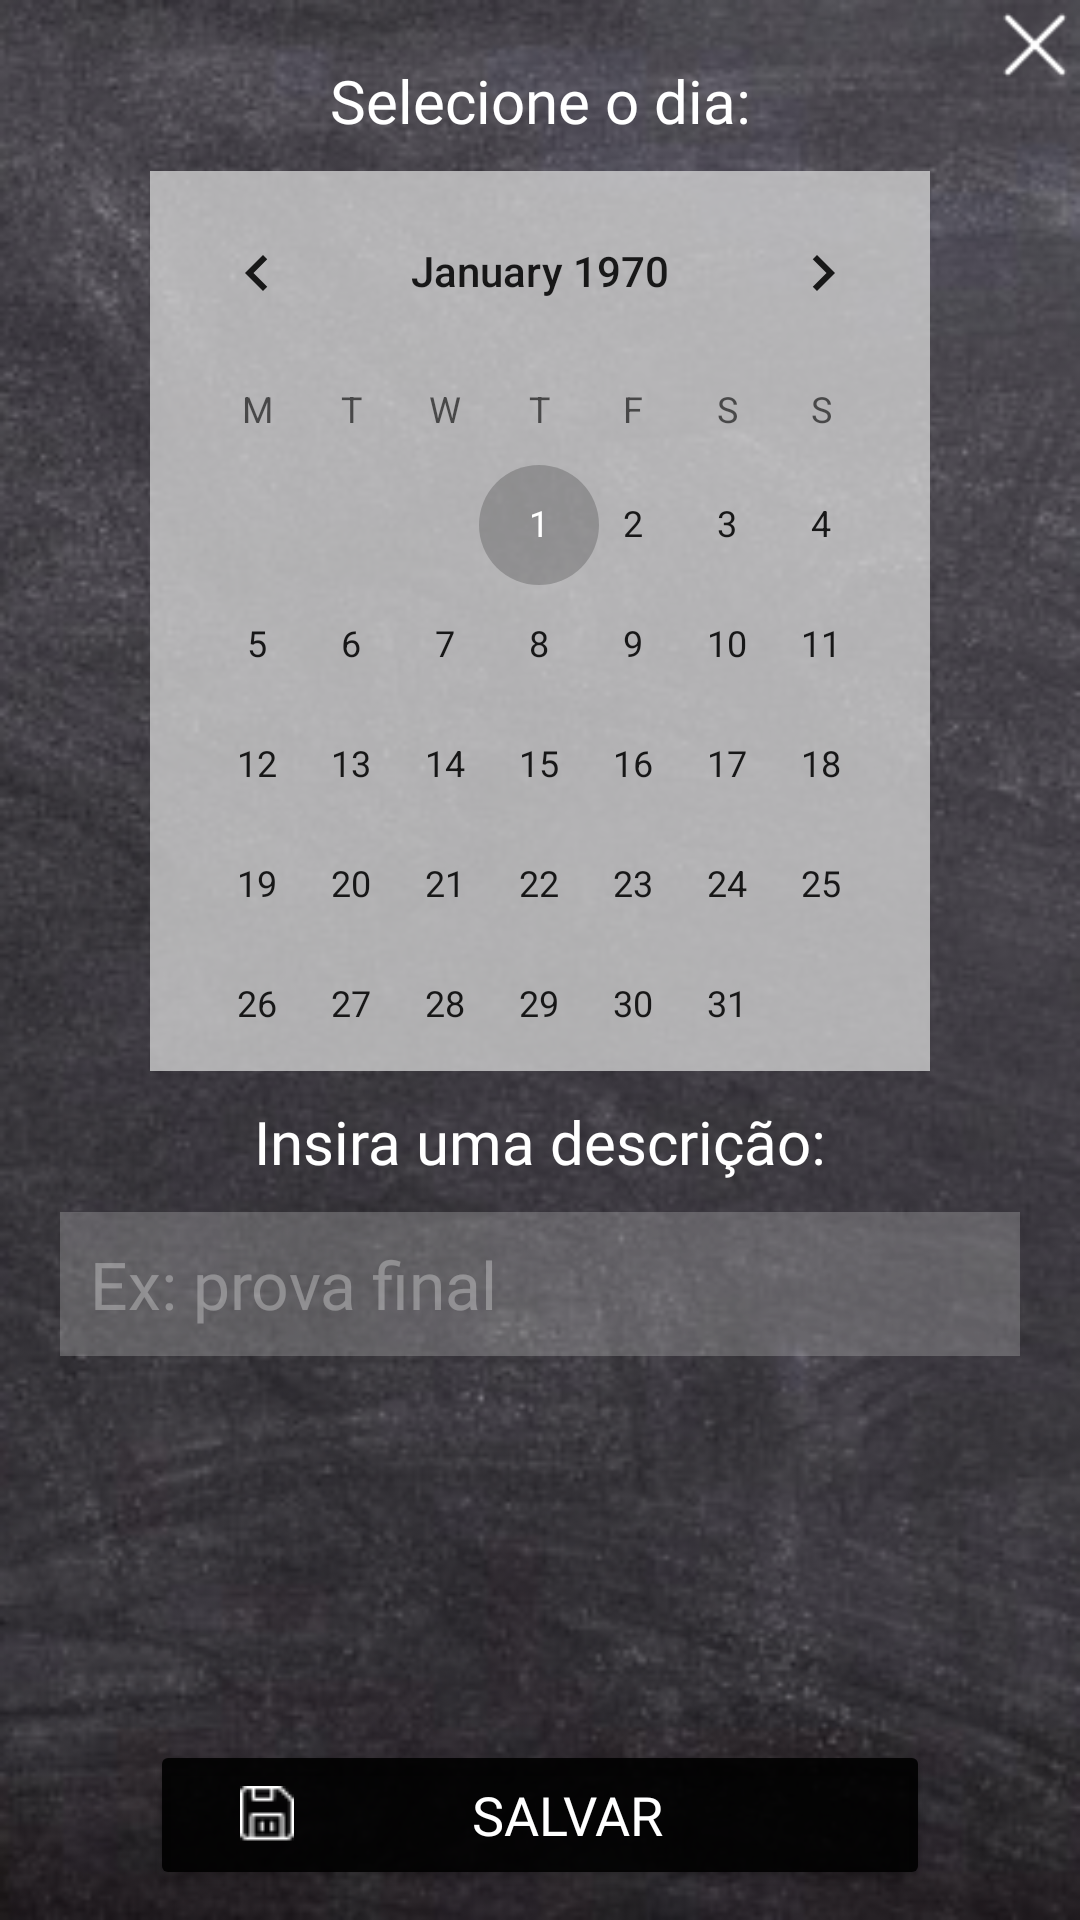

Screen size 1080w x 1920h. Icon name, then its center in pixels as (x=x, y=y):
fechar: (x=1035, y=49)
